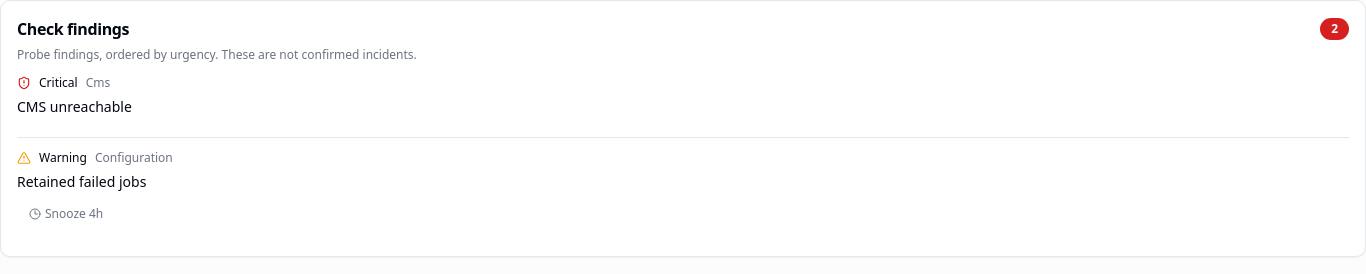
Test case: critical findings cannot be snoozed and stay before warnings
The width and height of the screenshot is (1366, 274).
Expected: the list item "Critical cms CMS unreachable" is shown, [17,74,132,116]
Click the button with aria-label "Snooze for 4 hours". click: click(66, 214)
box: [17,200,115,228]
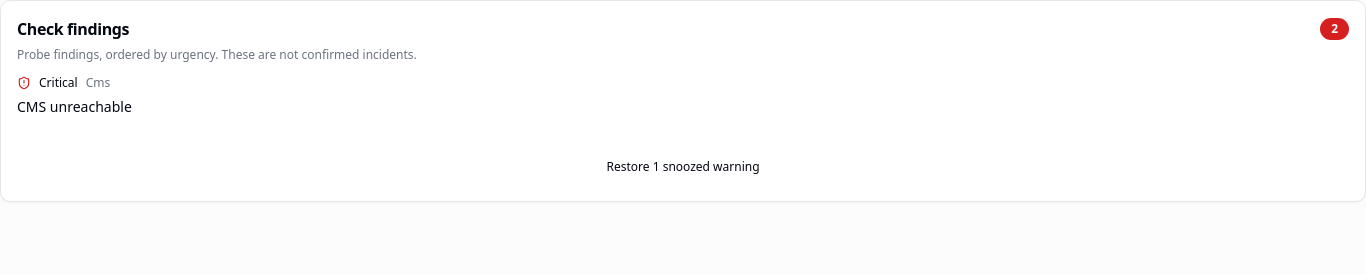
Expected: the text "CMS unreachable" is shown, [17,97,132,116]
Expected: the text "Retained failed jobs" is gone
Click the button "Restore 1 snoozed warning". click: click(683, 167)
box: [17,149,1349,185]
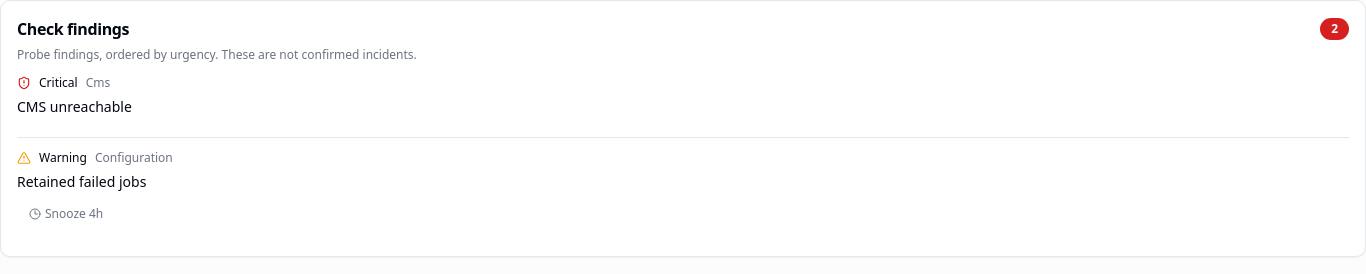
Expected: the text "Retained failed jobs" is shown, [17,172,146,191]
